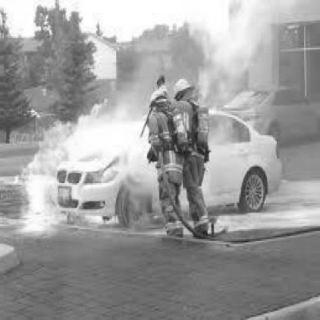Fire: (21, 97, 105, 233), (64, 208, 120, 225)
Smoke: (85, 103, 141, 159), (214, 5, 264, 67)
other: (147, 67, 211, 237)
